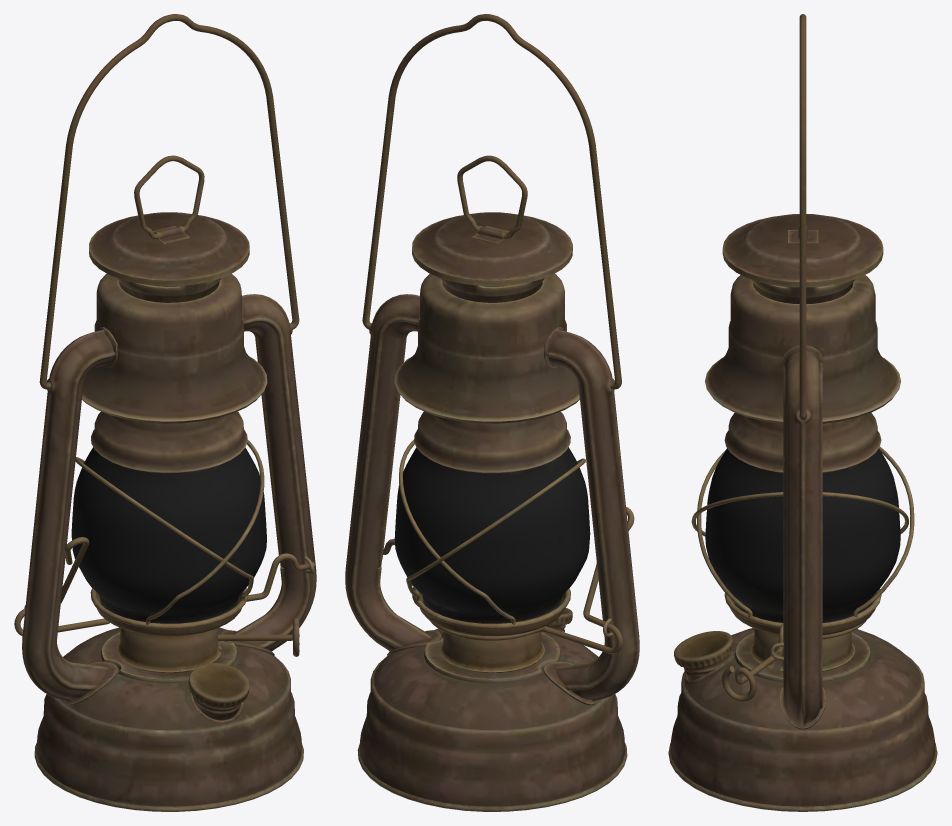
File: Lantern_01.glb
3 renders of one model, left to right at view 1: azimuth 30°, elevation 25°; view 2: azimuth 150°, elevation 25°; view 3: azimuth 270°, elevation 25°, orthographic.
Visible parts, largest first — view 1: Lantern_01, Lantern_01_glass; view 2: Lantern_01, Lantern_01_glass; view 3: Lantern_01, Lantern_01_glass.
Boxes of the visible parts, x1,y1,x2,y2 form: Lantern_01: [14, 14, 316, 811]; Lantern_01_glass: [71, 447, 266, 623]; Lantern_01: [345, 14, 639, 811]; Lantern_01_glass: [394, 447, 590, 623]; Lantern_01: [668, 14, 937, 811]; Lantern_01_glass: [705, 448, 900, 622].
Size of the model in its own units: 0.1221 by 0.2942 by 0.0972.
Materials: 2 (2 with a texture image).
